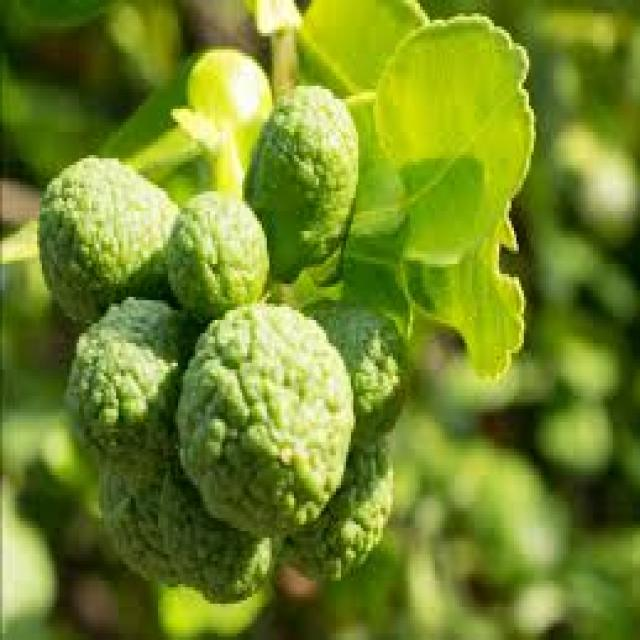Chuc: (173, 297, 356, 538), (96, 438, 271, 606), (35, 152, 178, 323), (240, 82, 358, 284), (62, 294, 188, 455), (290, 438, 394, 600), (303, 290, 415, 431), (163, 188, 269, 320)
